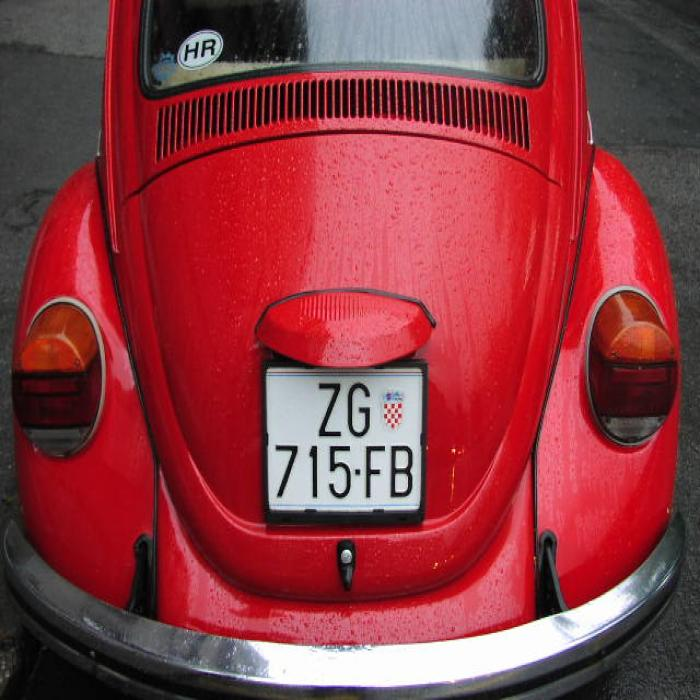number_plate: (265, 368, 419, 506)
